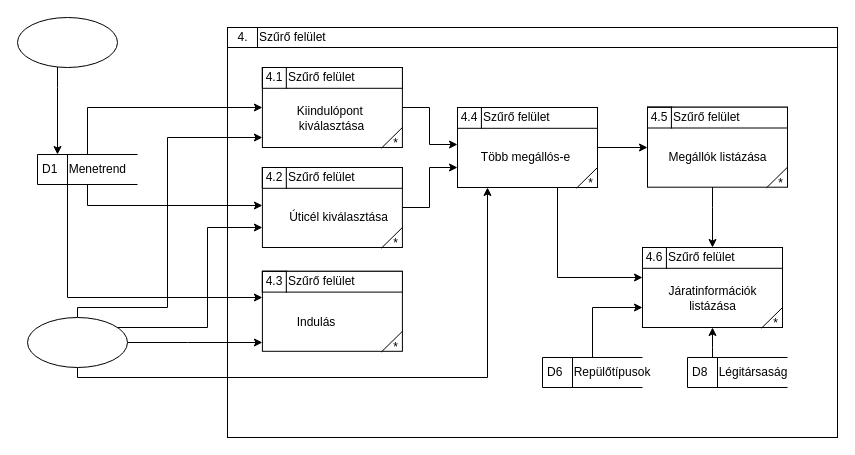
This 855x455 diagram has some shape labels left out. Here are the shapes that lost their labels. From the top down, the box of each, then its label:
(16, 16, 118, 68): Járatok
(26, 316, 128, 368): Utasok
